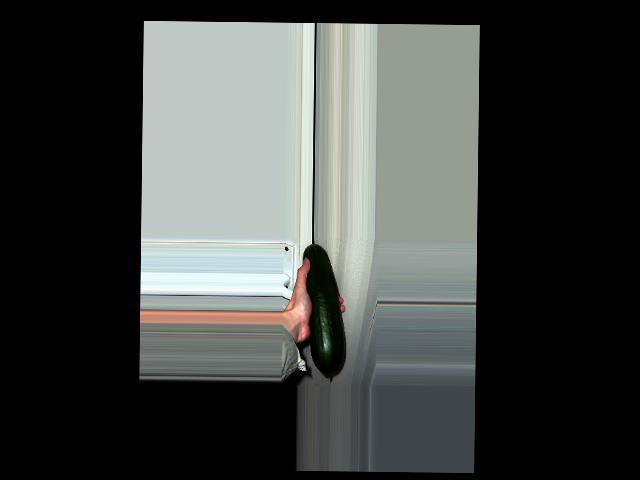cucumber: (301, 244, 347, 378)
